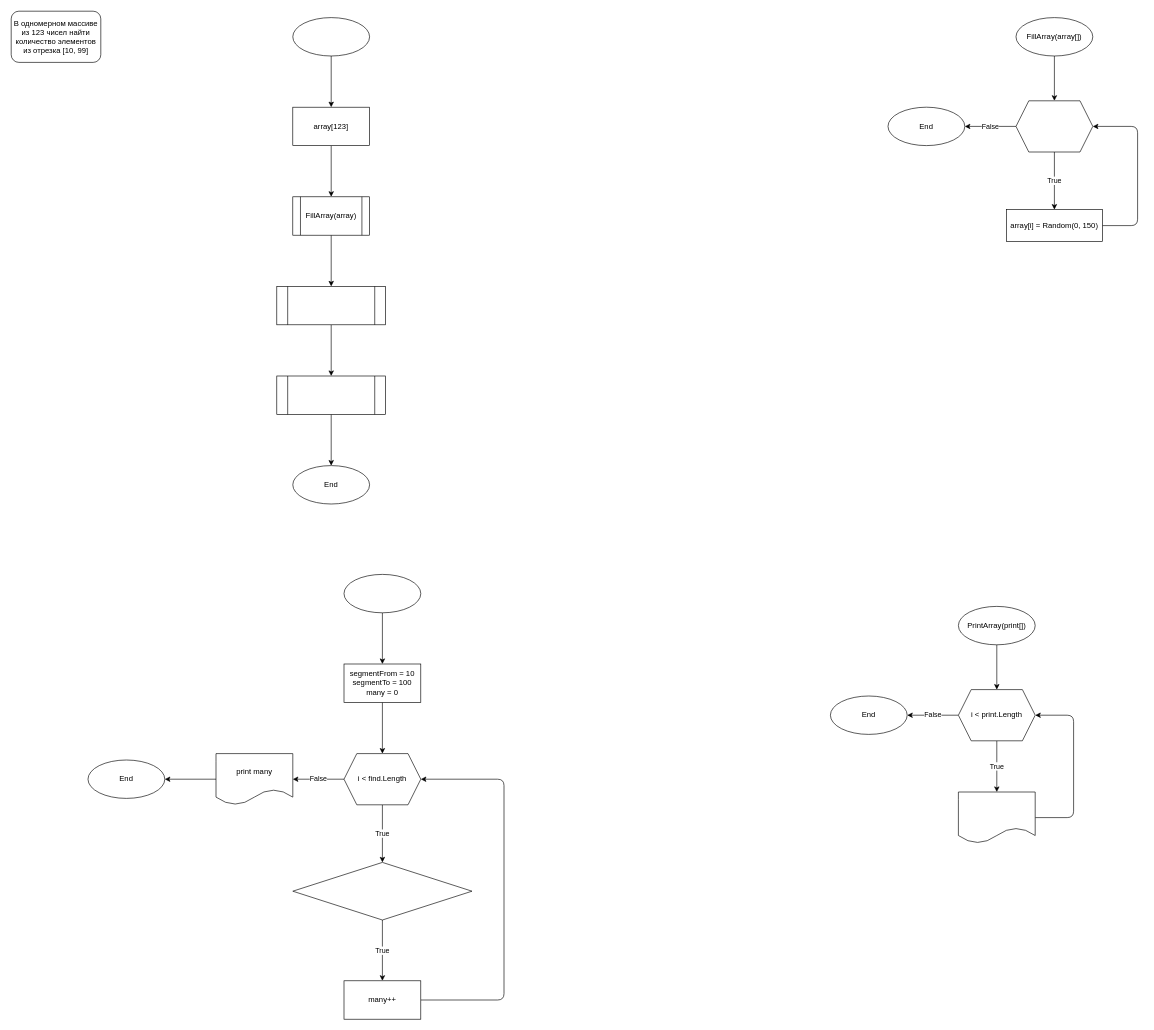
This 1154x1030 diagram has some shape labels left out. Here are the shapes that lost their labels. From the top down, the centre of each, then its label:
(331,36): Start
(1054,126): i < array.Length
(331,305): FindElements(array)
(331,394): PrintArray(array)
(382,593): FindElements(find[])
(996,817): print printt[i]
(382,891): fill[i] > segmentFrom && fill[i] < segmentTo
